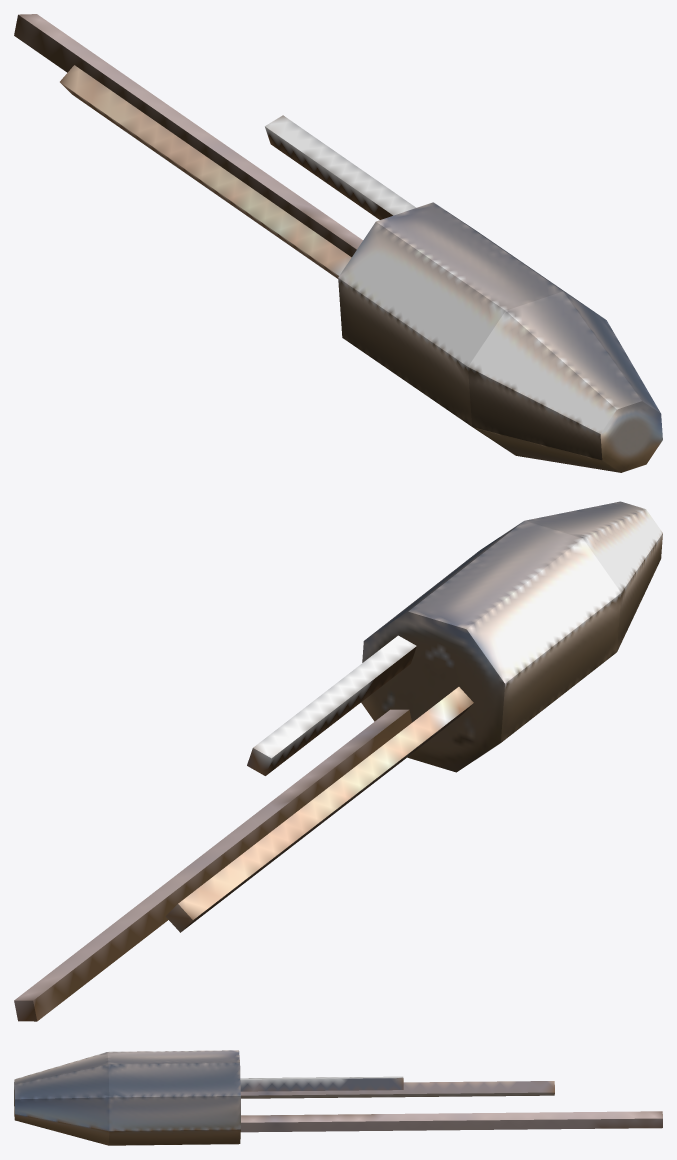
The picture shows the model from 3 angles, top to bottom: view 1: azimuth 30°, elevation 25°; view 2: azimuth 150°, elevation 25°; view 3: azimuth 270°, elevation 25°; orthographic projection. The views are drawn at different scales.
Parts seen in each view (by area): view 1: Bala_Cylinder.003, Estela_1_Cube.006, Estela_3_Cube.008, Estela_2_Cube.007; view 2: Bala_Cylinder.003, Estela_1_Cube.006, Estela_3_Cube.008, Estela_2_Cube.007; view 3: Bala_Cylinder.003, Estela_1_Cube.006, Estela_3_Cube.008, Estela_2_Cube.007.
Part boxes in pixels (x1,y1,x2,y2): Bala_Cylinder.003: (338,202,662,472); Estela_1_Cube.006: (14,14,362,257); Estela_3_Cube.008: (60,65,351,278); Estela_2_Cube.007: (265,115,416,219); Bala_Cylinder.003: (361,501,662,772); Estela_1_Cube.006: (14,709,411,1021); Estela_3_Cube.008: (165,687,473,932); Estela_2_Cube.007: (247,635,416,775); Bala_Cylinder.003: (14,1050,240,1145); Estela_1_Cube.006: (241,1111,662,1132); Estela_3_Cube.008: (240,1081,554,1098); Estela_2_Cube.007: (240,1076,403,1091).
Size of what is drawn, in the model's own units: 0.2771 by 0.2662 by 1.94.
